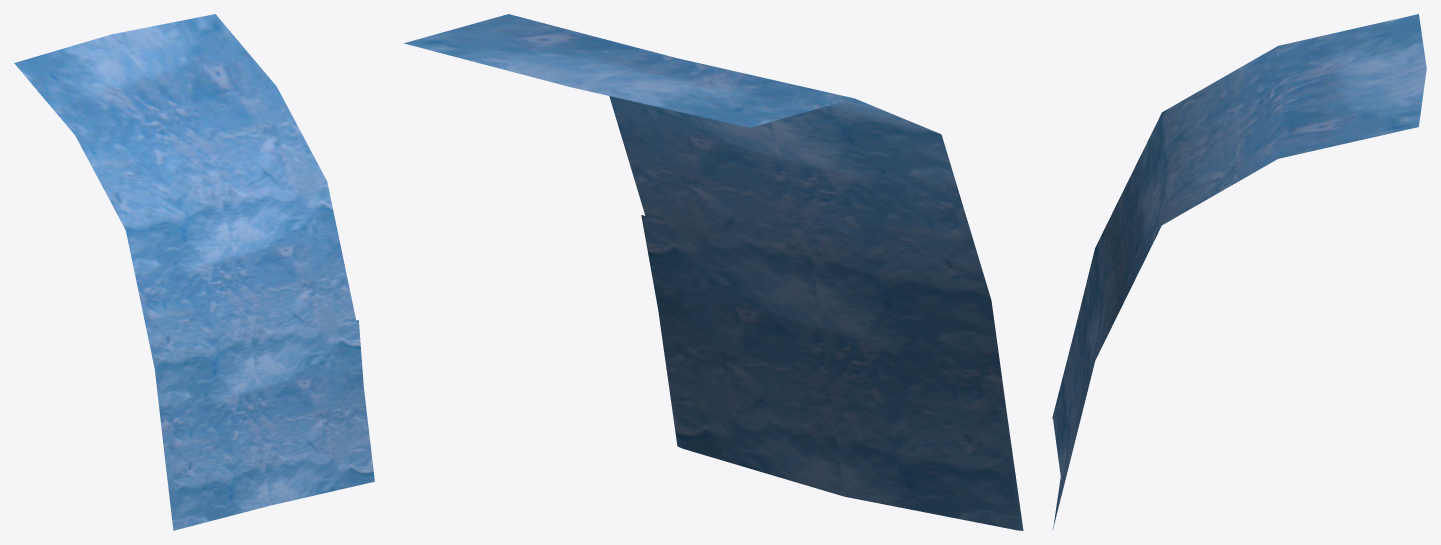
File: IceA3.fbx
3 renders of one model, left to right at view 1: azimuth 30°, elevation 25°; view 2: azimuth 150°, elevation 25°; view 3: azimuth 270°, elevation 25°, orthographic. The views are drawn at different scales.
Visible parts, largest first — view 1: IceA3; view 2: IceA3; view 3: IceA3.
Part boxes in pixels (box(x1,y1,x2,y2)): IceA3: box(14, 14, 374, 530); IceA3: box(404, 14, 1023, 530); IceA3: box(1052, 14, 1426, 529).
Bounding box in the file's own units: 899 × 1494 × 1243.
